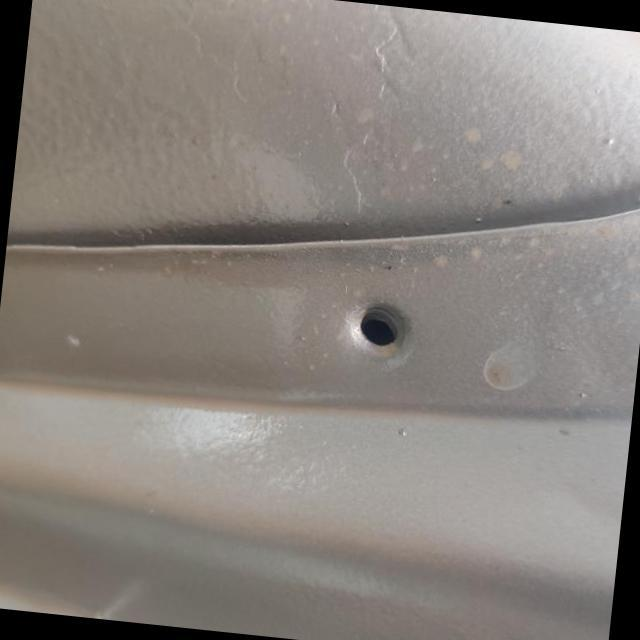Fastener Damage: (302, 238, 472, 407)
